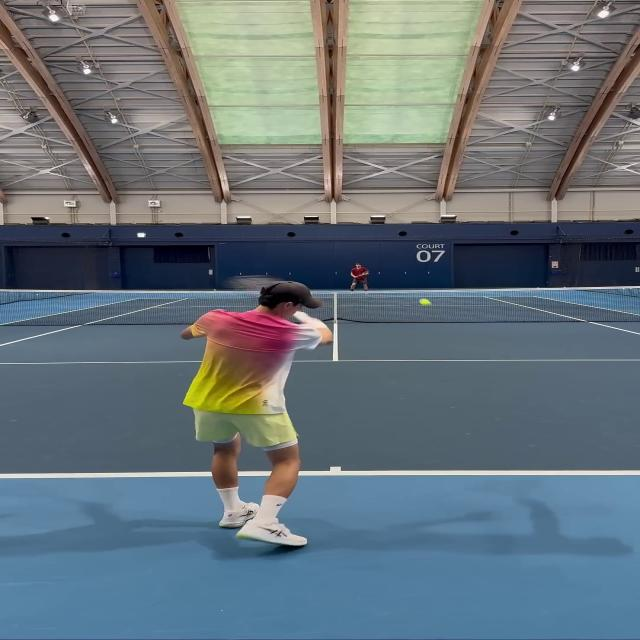tennis_ball: (422, 300, 429, 304)
